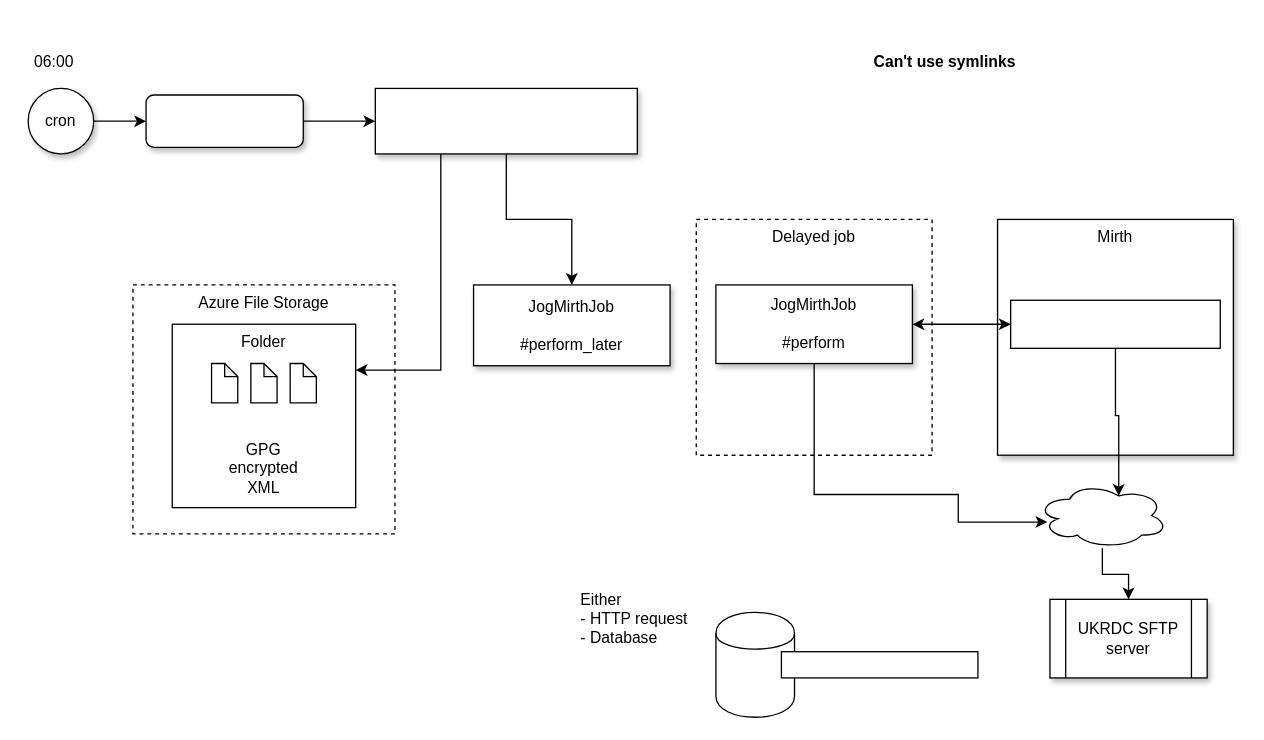
The diagram is 1264 pixels wide and 740 high, and some of its shapes have lost their labels. Here are the shapes that lost their labels. From the top down, the centre of each, then its label:
At [225,122]: "rake ukrdc:export".
At [507,122]: "CreateEncryptedPatientXmlFiles".
At [1114,323]: "channel".
At [879,664]: "feed_outgoing_messages".
